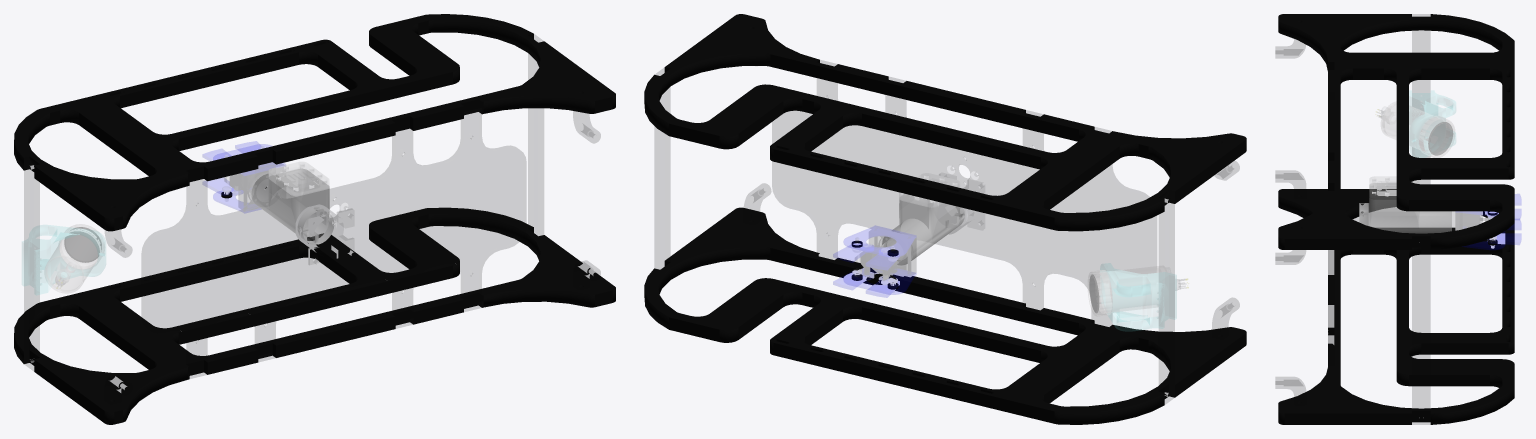
File: black_skid_centered_x.obj
3 views of the same model, side by side, from view 1: azimuth 30°, elevation 25°; view 2: azimuth 150°, elevation 25°; view 3: azimuth 270°, elevation 25° (orthographic). The views are drawn at different scales.
Parts seen in each view (by area): view 1: RV-CAM-Halter-1-surface1_RV-CAM-Halter-1-surface1Mesh; view 2: RV-CAM-Halter-1-surface1_RV-CAM-Halter-1-surface1Mesh; view 3: RV-CAM-Halter-1-surface1_RV-CAM-Halter-1-surface1Mesh.
Boxes of the visible parts, bbox=[...] form: RV-CAM-Halter-1-surface1_RV-CAM-Halter-1-surface1Mesh: bbox=[14, 14, 615, 424]; RV-CAM-Halter-1-surface1_RV-CAM-Halter-1-surface1Mesh: bbox=[644, 14, 1246, 424]; RV-CAM-Halter-1-surface1_RV-CAM-Halter-1-surface1Mesh: bbox=[1275, 14, 1520, 424].
Size of the model in its own units: 0.855 by 0.33 by 0.3962.
